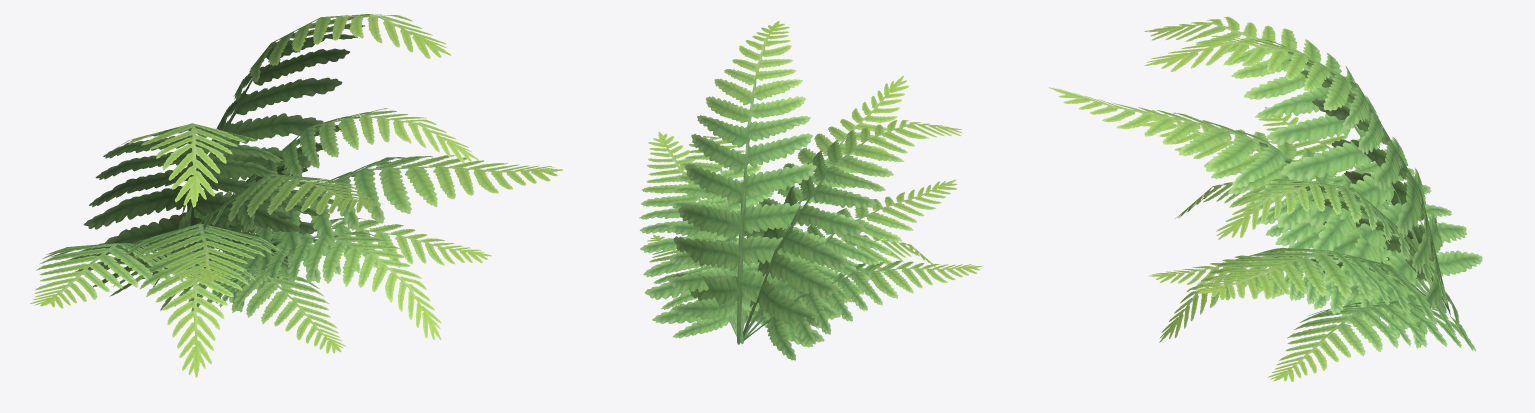
The model's file is SM_ENV_plant_ancient_17_03.fbx.
The picture shows the model from 3 angles, left to right: view 1: azimuth 30°, elevation 25°; view 2: azimuth 150°, elevation 25°; view 3: azimuth 270°, elevation 25°; orthographic projection. The views are drawn at different scales.
Parts seen in each view (by area): view 1: SM_ENV_plant_ancient_17_03_LOD0; view 2: SM_ENV_plant_ancient_17_03_LOD0; view 3: SM_ENV_plant_ancient_17_03_LOD0.
Boxes of the visible parts, box(x1,y1,x2,y2) form: SM_ENV_plant_ancient_17_03_LOD0: box(30, 14, 562, 377); SM_ENV_plant_ancient_17_03_LOD0: box(639, 21, 982, 360); SM_ENV_plant_ancient_17_03_LOD0: box(1048, 16, 1482, 381).
Bounding box in the file's own units: 146 × 99.2 × 127.
